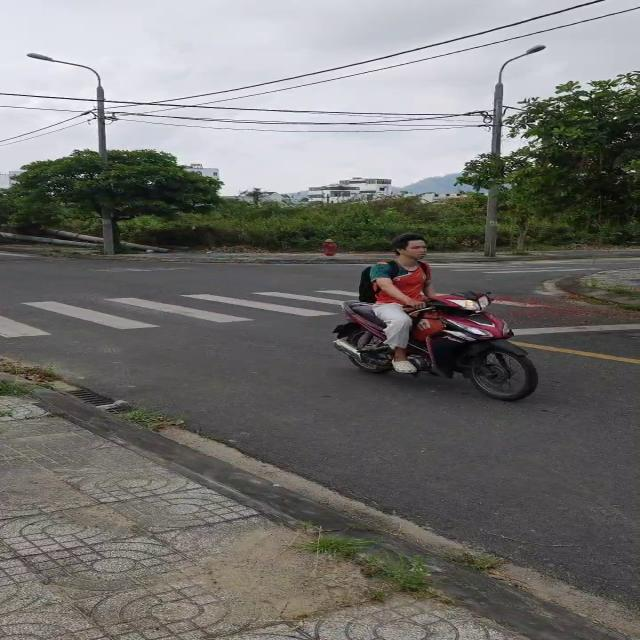no_helmet: (393, 234, 426, 257)
